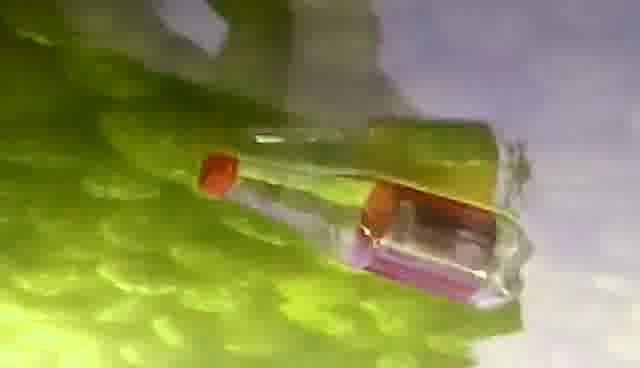Plastic: (193, 139, 538, 321)
